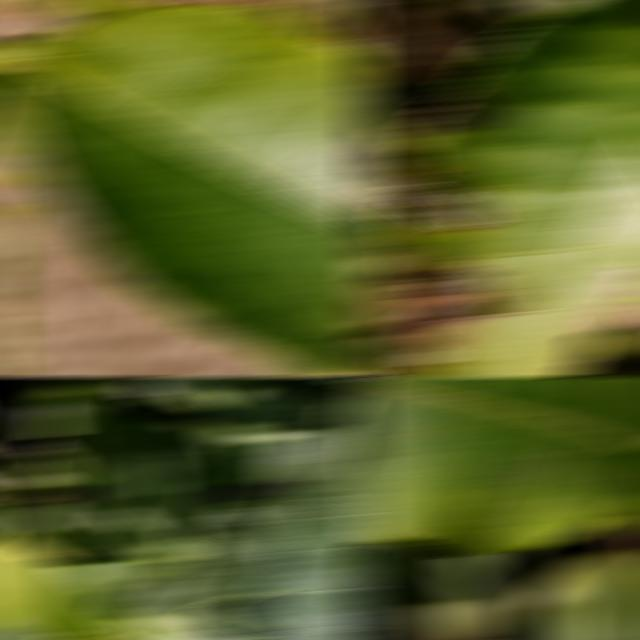Leaf: (3, 5, 375, 373), (385, 0, 640, 376), (353, 378, 640, 554), (173, 397, 375, 609), (250, 456, 375, 640), (0, 533, 155, 640), (511, 548, 640, 640), (62, 412, 177, 494), (95, 462, 200, 545), (187, 422, 300, 484), (57, 560, 175, 617), (216, 390, 330, 431), (95, 527, 195, 563), (42, 0, 158, 21)
